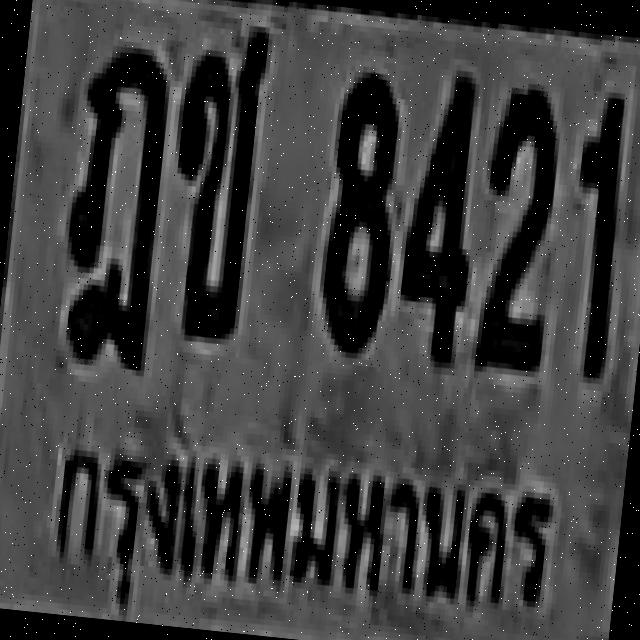1: (558, 90, 632, 372), (559, 89, 629, 338)
2: (470, 86, 568, 372)
23DorChaDa: (52, 39, 174, 367)
4: (392, 66, 486, 364)
8: (314, 63, 408, 354)
Bangkok: (27, 421, 560, 640)
